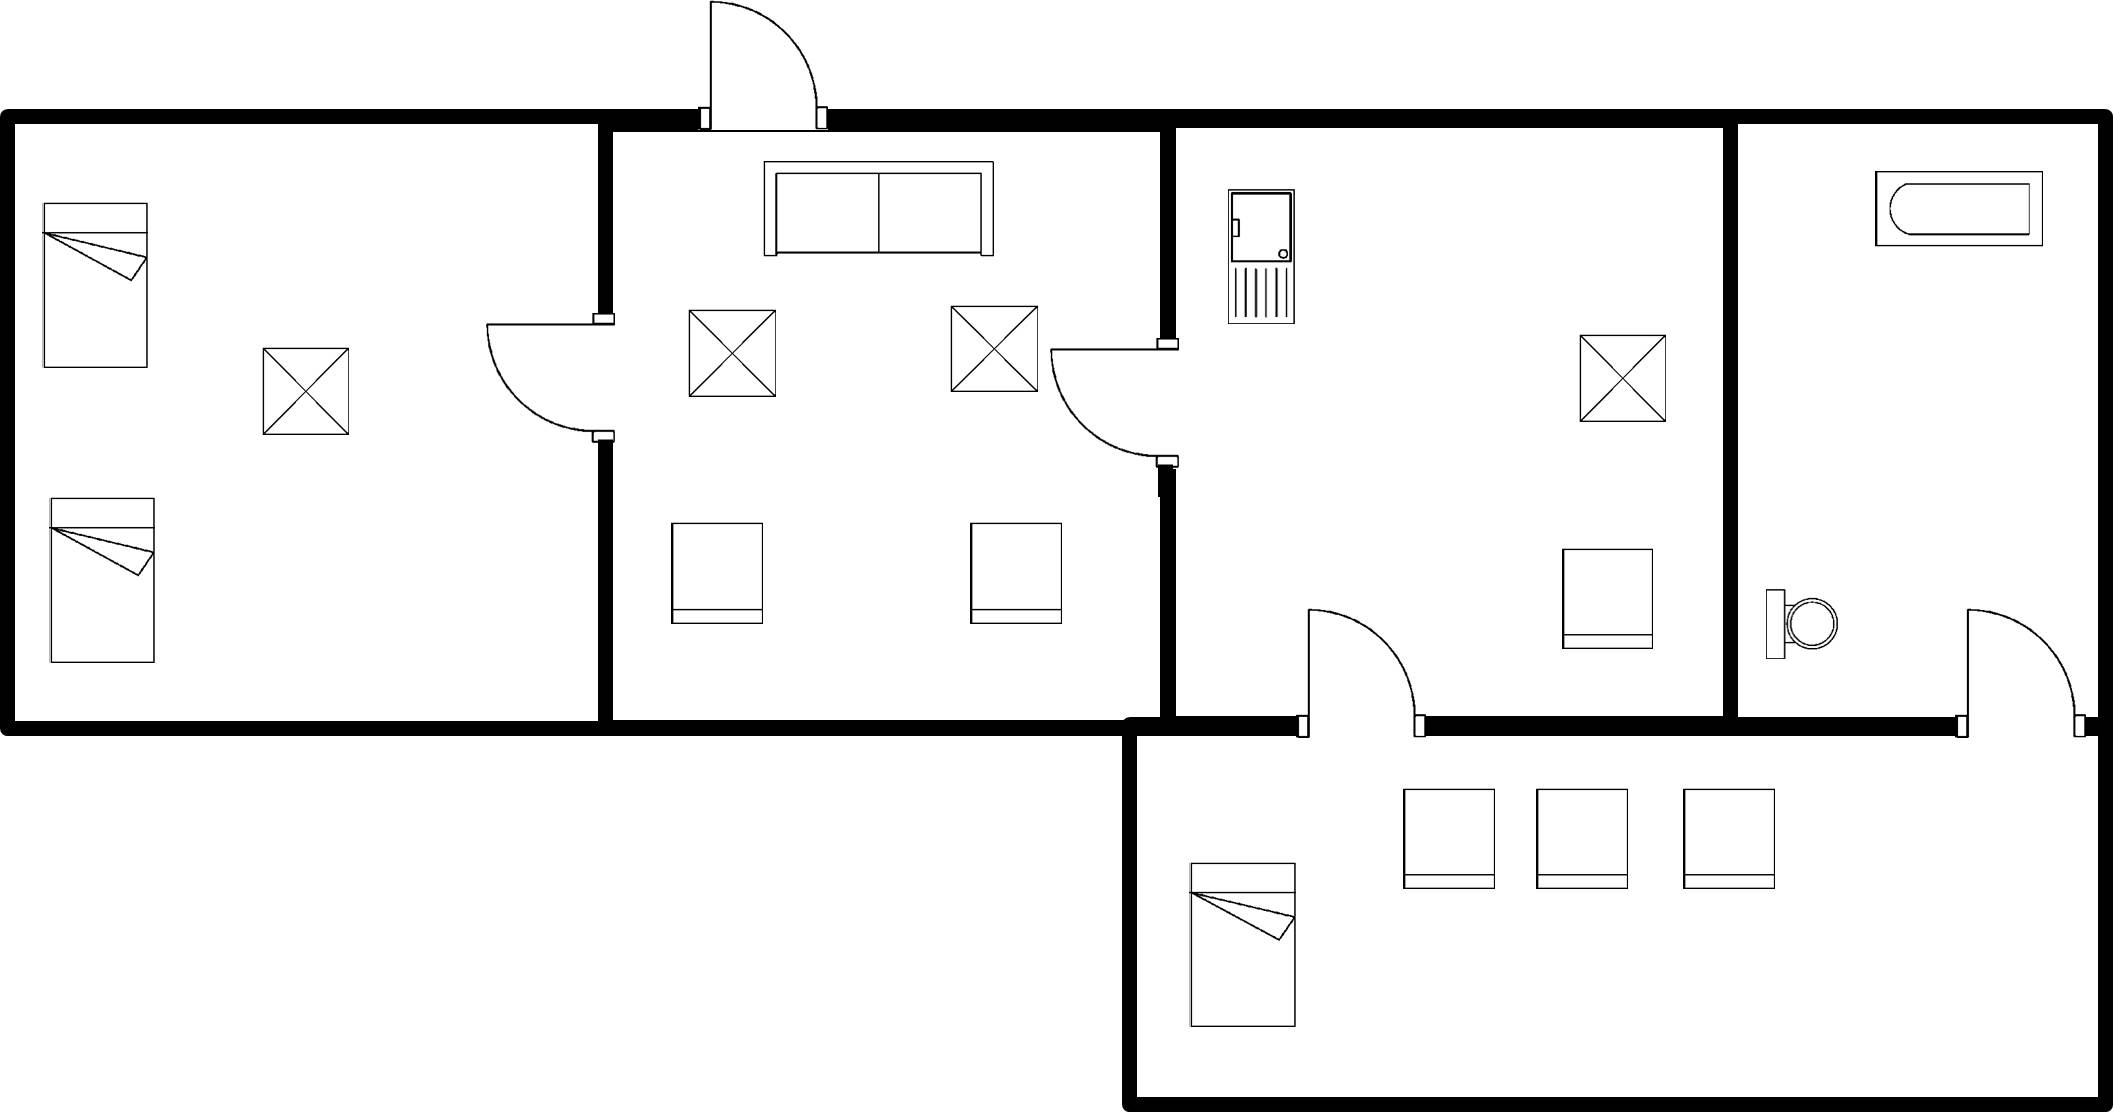bed: (1174, 850, 1312, 1044), (42, 483, 169, 677), (31, 192, 159, 379)
coffee_table: (678, 297, 792, 412), (1566, 324, 1678, 433), (251, 338, 362, 447), (942, 298, 1050, 406)
large_sink: (1753, 577, 1845, 674)
large_sofa: (753, 151, 1003, 272)
sink: (1212, 180, 1307, 344)
small_sofa: (1547, 538, 1665, 666), (957, 513, 1072, 638), (1524, 776, 1639, 901), (1674, 780, 1792, 901), (1395, 780, 1503, 904), (662, 515, 772, 635)
tub: (1859, 162, 2054, 263)
